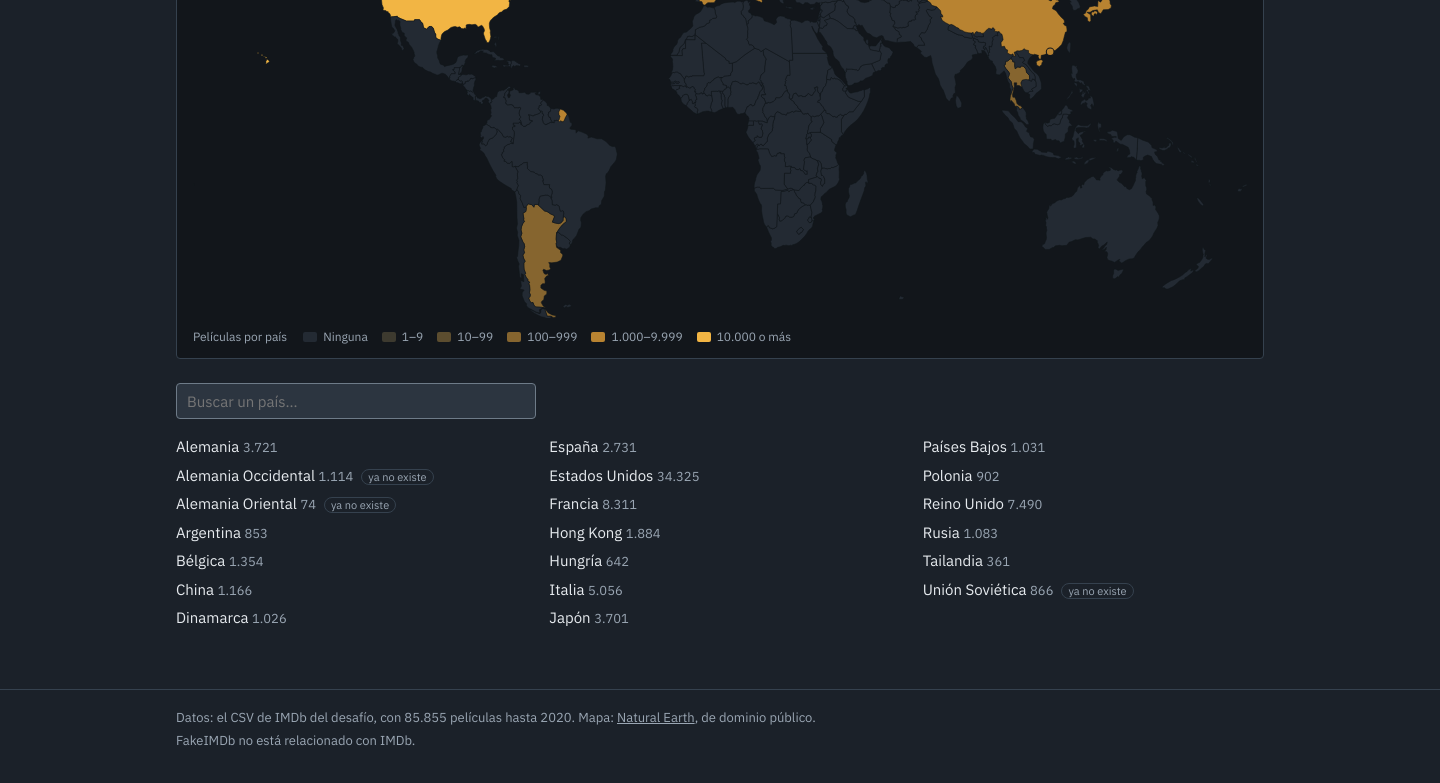
Test: countries page › opens the movies of a country of the list, keeping the filters chosen before
(page scrolled)
Click the link "Unión Soviética": (975, 589) [923,580,1026,599]
(page scrolled)
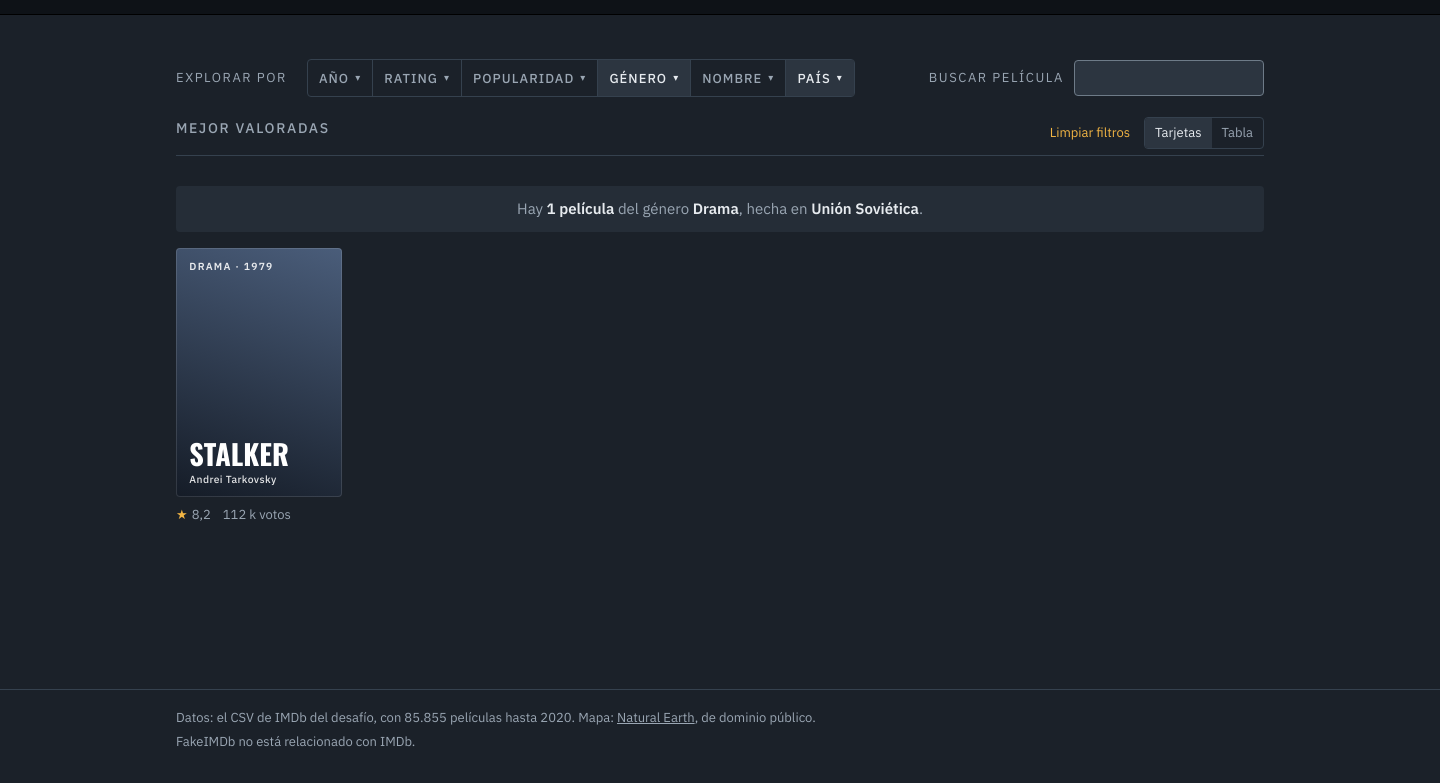
Expected: the link with aria-label "Stalker (1979)" is shown, [176,248,342,498]
